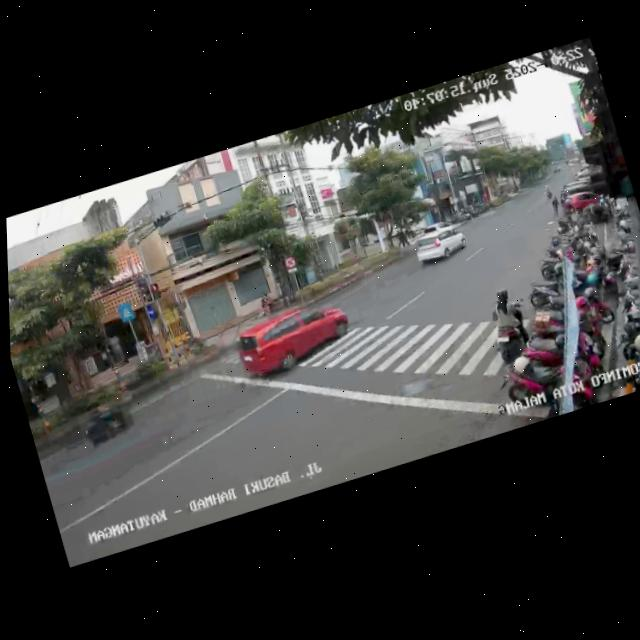car: (231, 290, 359, 387), (409, 219, 471, 269)
motorcycle: (477, 280, 541, 371), (71, 389, 140, 452)
person: (547, 193, 564, 220)
